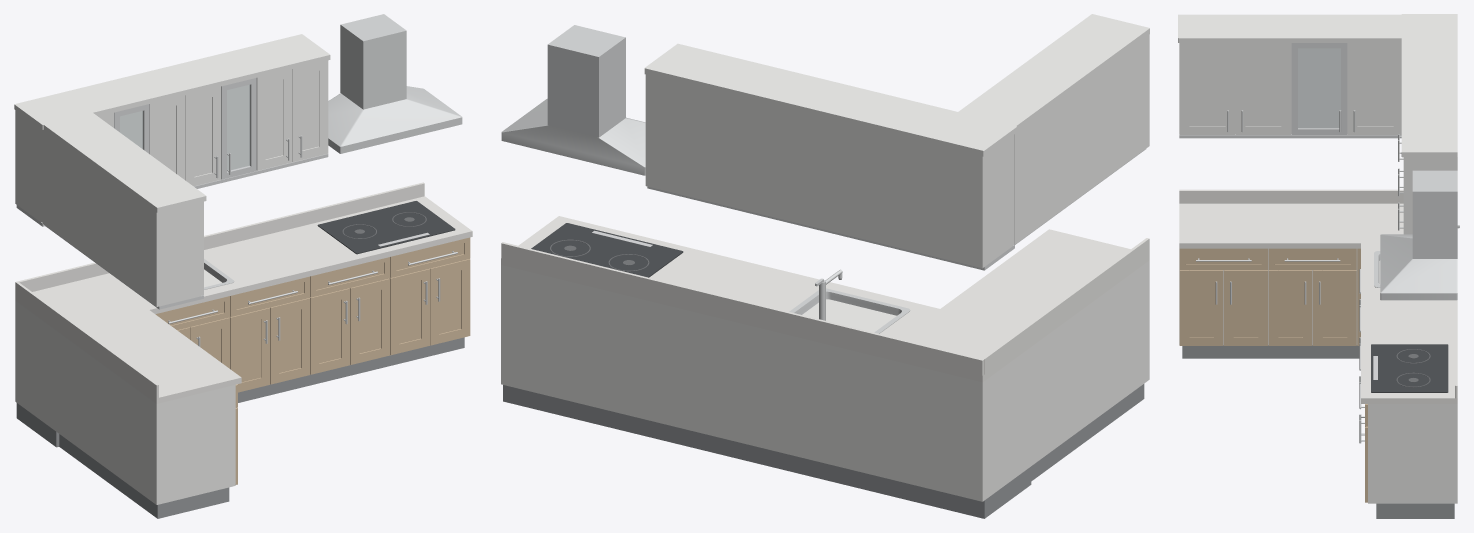
The picture shows the model from 3 angles, left to right: view 1: azimuth 30°, elevation 25°; view 2: azimuth 150°, elevation 25°; view 3: azimuth 270°, elevation 25°; orthographic projection. The views are drawn at different scales.
Parts seen in each view (by area): view 1: Tủ bếp chữ L Dài cạnh chính=3000; Dài cạnh phụ=1800; Sâu tủ ; view 2: Tủ bếp chữ L Dài cạnh chính=3000; Dài cạnh phụ=1800; Sâu tủ ; view 3: Tủ bếp chữ L Dài cạnh chính=3000; Dài cạnh phụ=1800; Sâu tủ .
Boxes of the visible parts, box(x1,y1,x2,y2) form: Tủ bếp chữ L Dài cạnh chính=3000; Dài cạnh phụ=1800; Sâu tủ : box(14, 14, 472, 518); Tủ bếp chữ L Dài cạnh chính=3000; Dài cạnh phụ=1800; Sâu tủ : box(501, 14, 1149, 518); Tủ bếp chữ L Dài cạnh chính=3000; Dài cạnh phụ=1800; Sâu tủ : box(1178, 14, 1459, 518).
Size of the model in its own units: 3.01 by 2.2 by 1.82.
